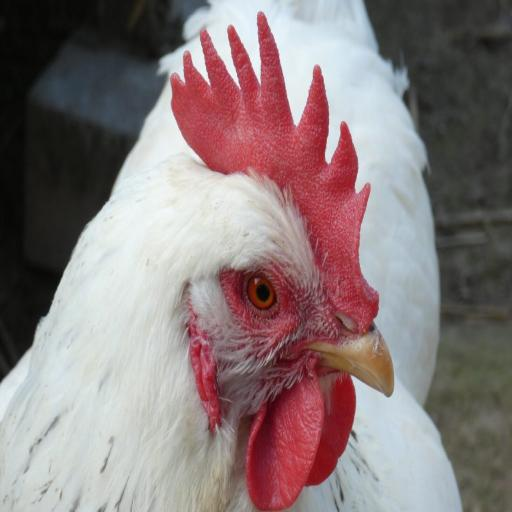healthy: (157, 35, 402, 512)
